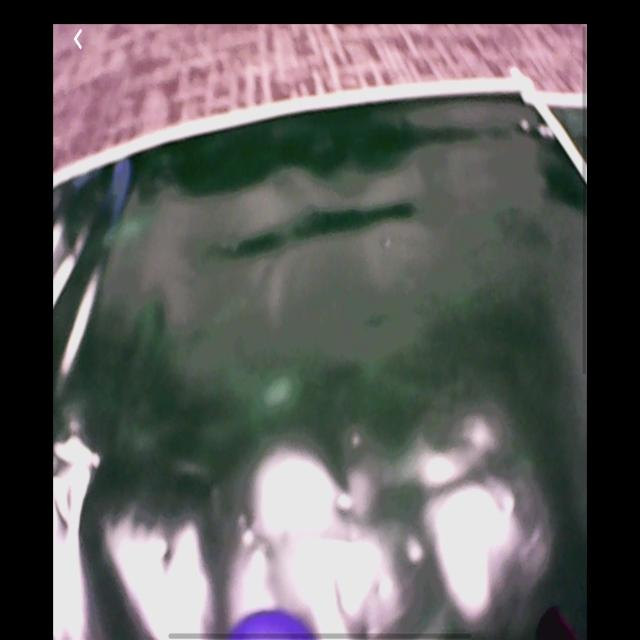ball: (229, 608, 315, 638)
